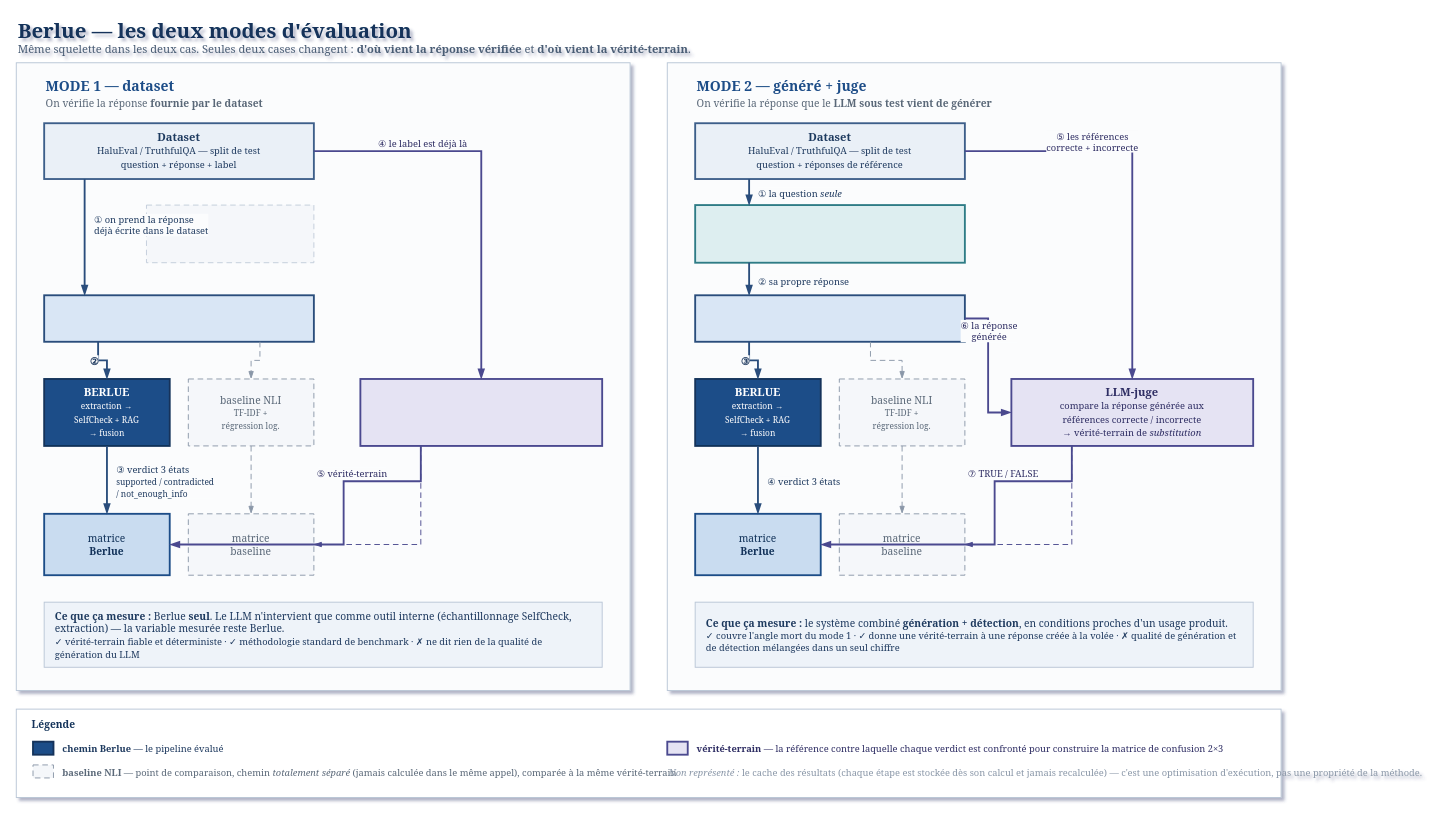
This 1444x819 diagram has some shape labels left out. The centre of each missing label's shape, as x and y in pixels:
"aucune génération la réponse existe déjà" belongs at point 230,233.
"Label du dataset vérité-terrain directe fiable, déterministe" belongs at point 481,412.
"LLM sous test génère sa propre réponse à la question" belongs at point 829,233.
"Réponse à vérifier right_answer / hallucinated_answer" belongs at point 178,318.
"Réponse à vérifier texte généré — aucun label direct" belongs at point 829,318.
